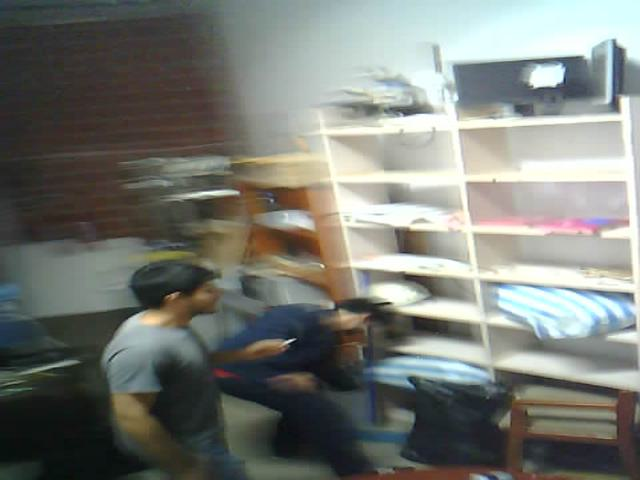person: (73, 260, 310, 480), (201, 282, 414, 480)
